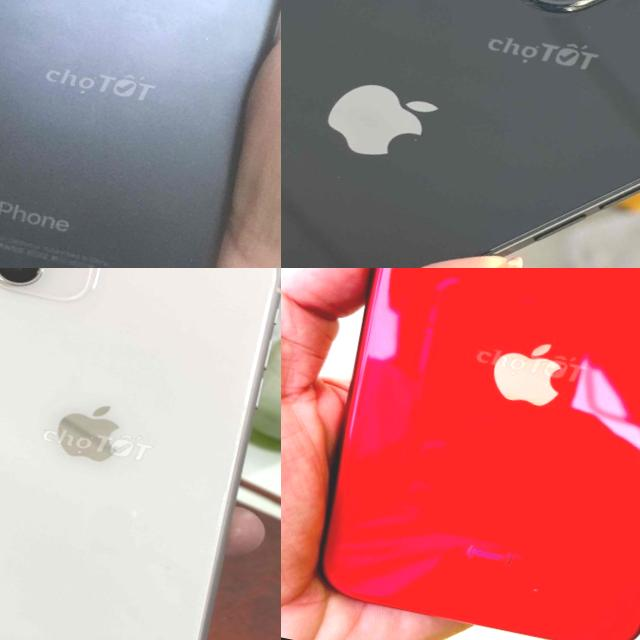gen_11: (283, 268, 640, 640), (0, 268, 281, 640)
gen_12_13: (281, 0, 640, 268)
gen_7_8: (0, 0, 281, 268)
